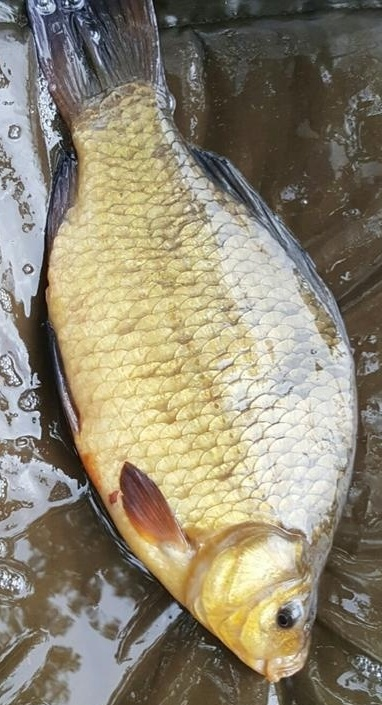Carassius carassius: (20, 1, 362, 685)
